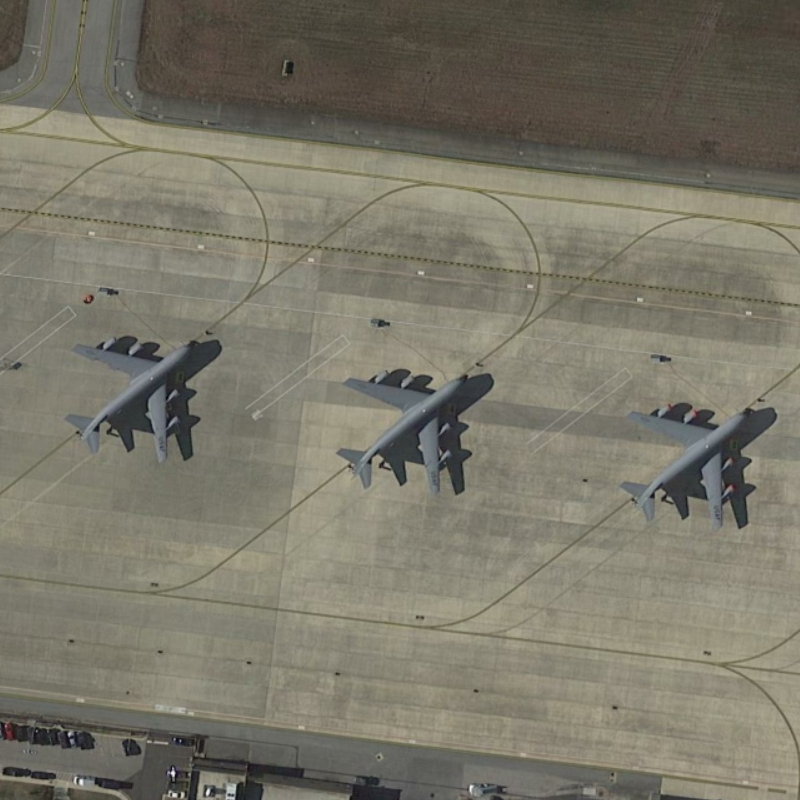A14: (328, 359, 479, 501), (609, 393, 757, 535), (64, 332, 204, 470)
